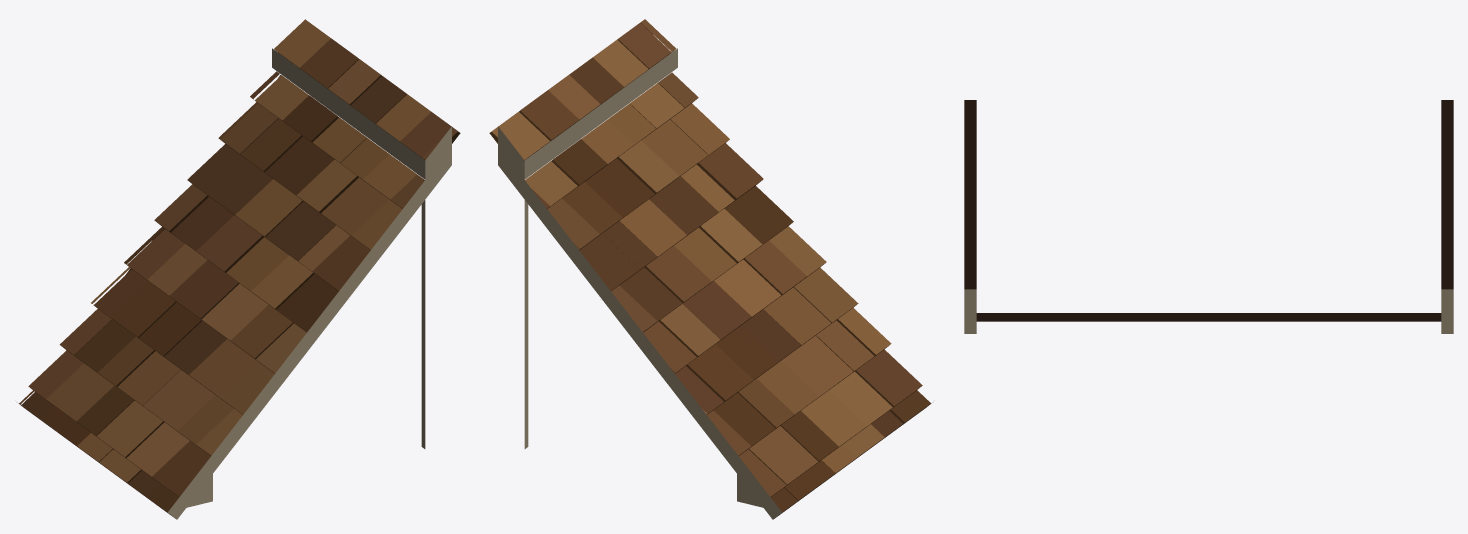
Rendered from roof-high-wood.glb.
3 views of the same model, side by side, from view 1: azimuth 30°, elevation 25°; view 2: azimuth 150°, elevation 25°; view 3: azimuth 270°, elevation 25° (orthographic). The views are drawn at different scales.
Parts seen in each view (by area): view 1: roof-high-wood; view 2: roof-high-wood; view 3: roof-high-wood.
Boxes of the visible parts, box(x1,y1,x2,y2) form: roof-high-wood: box(18, 19, 460, 519); roof-high-wood: box(489, 19, 931, 519); roof-high-wood: box(964, 100, 1453, 333).
Size of the model in its own units: 1.1 by 1.18 by 1.
